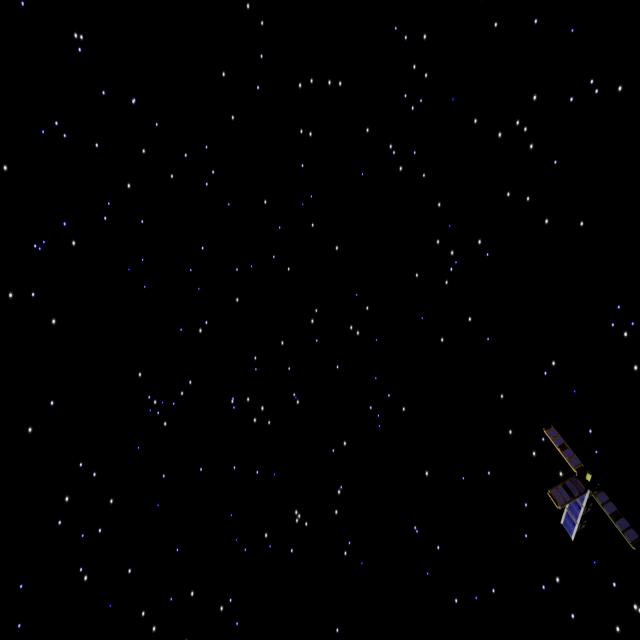satellite: (523, 417, 640, 555)
